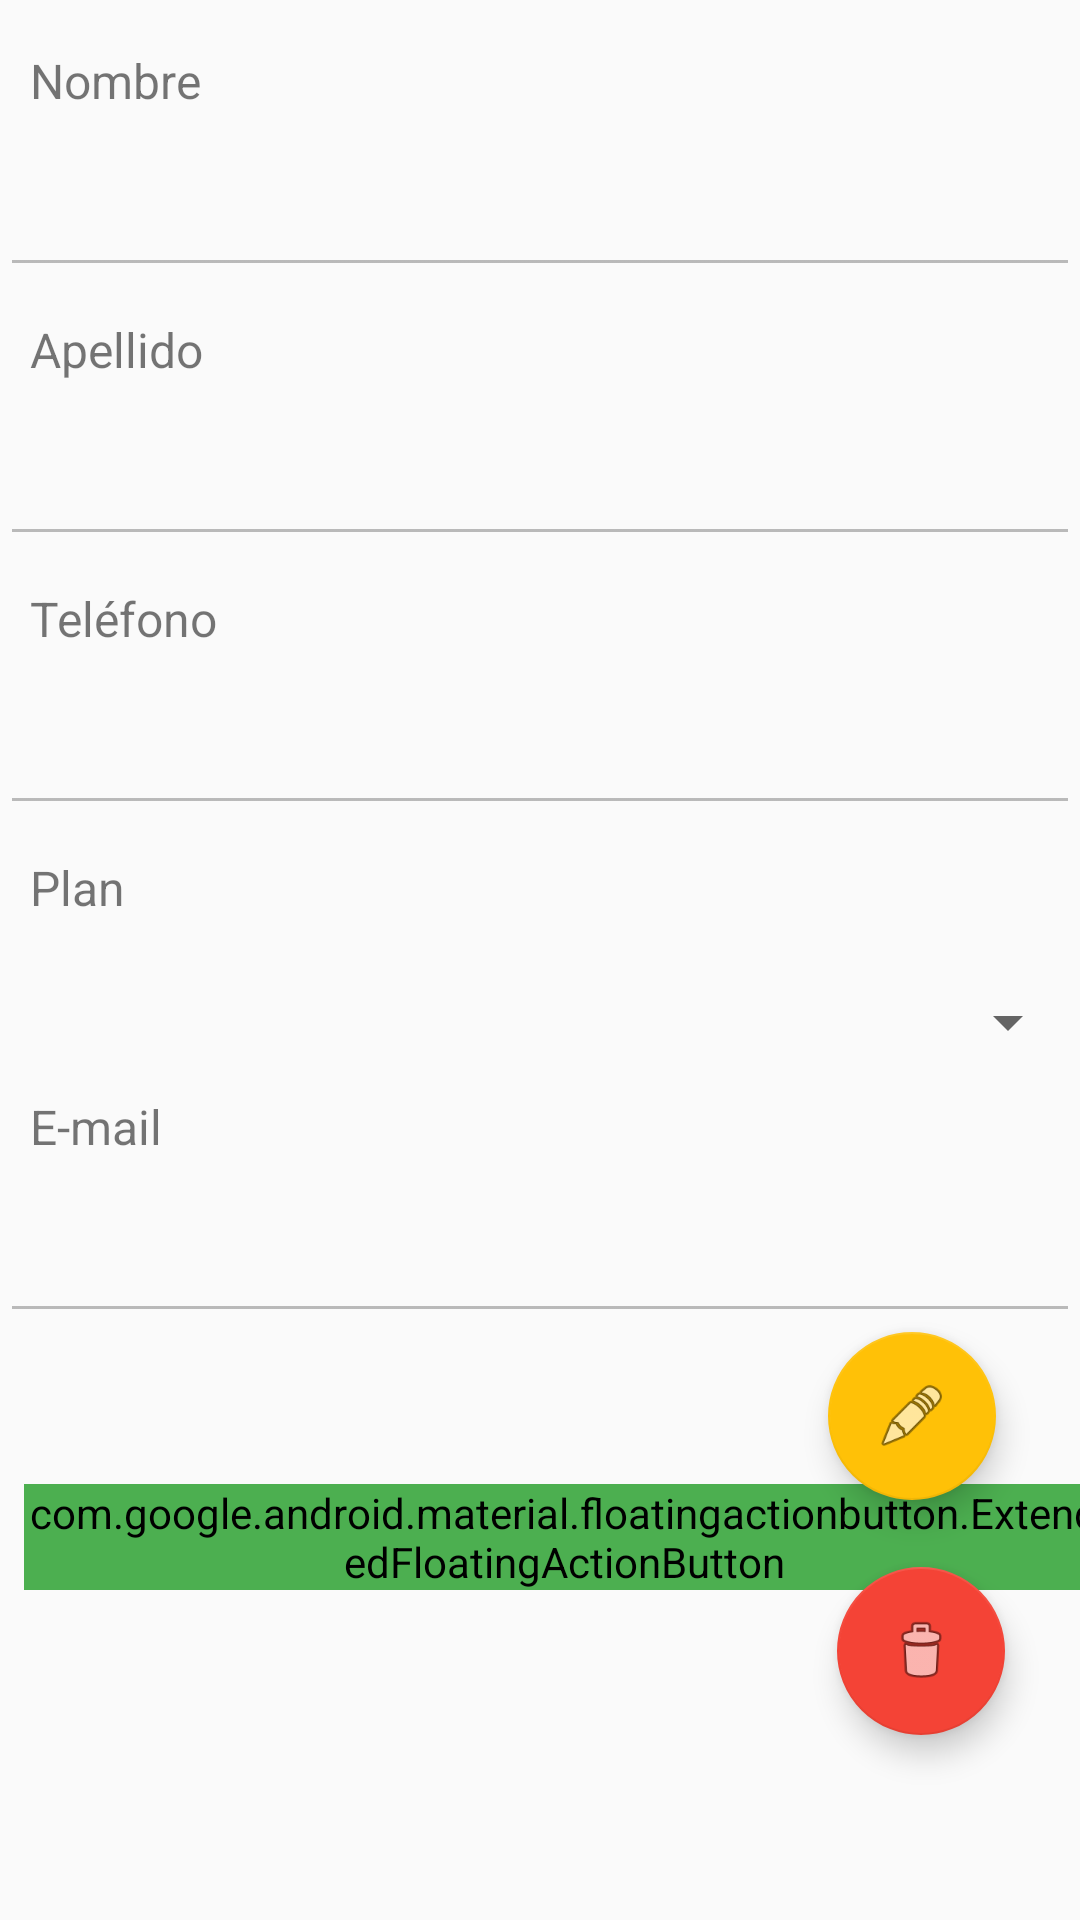

Screen size 1080px×1920px. Icon name, then its center in pixels as (x,y):
delete: (921,1651)
edit: (912,1416)
